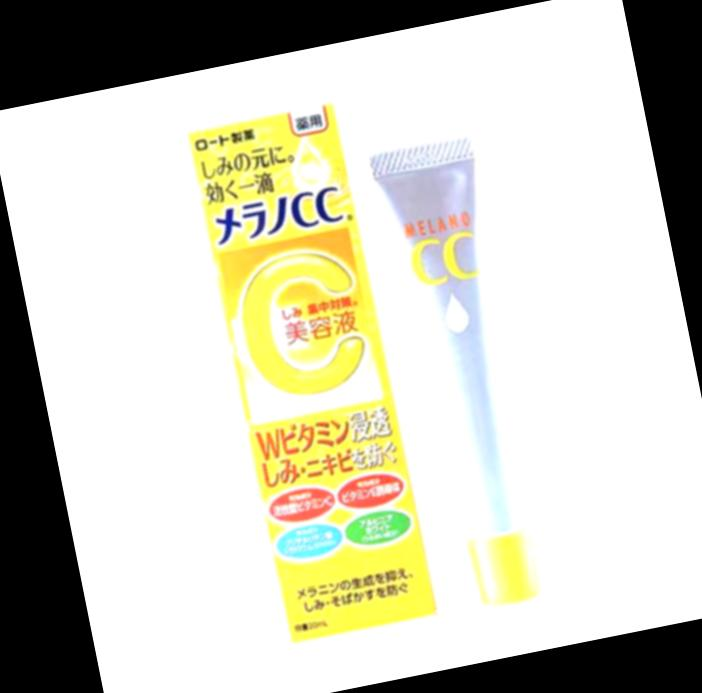cosmetic: (363, 134, 562, 614)
